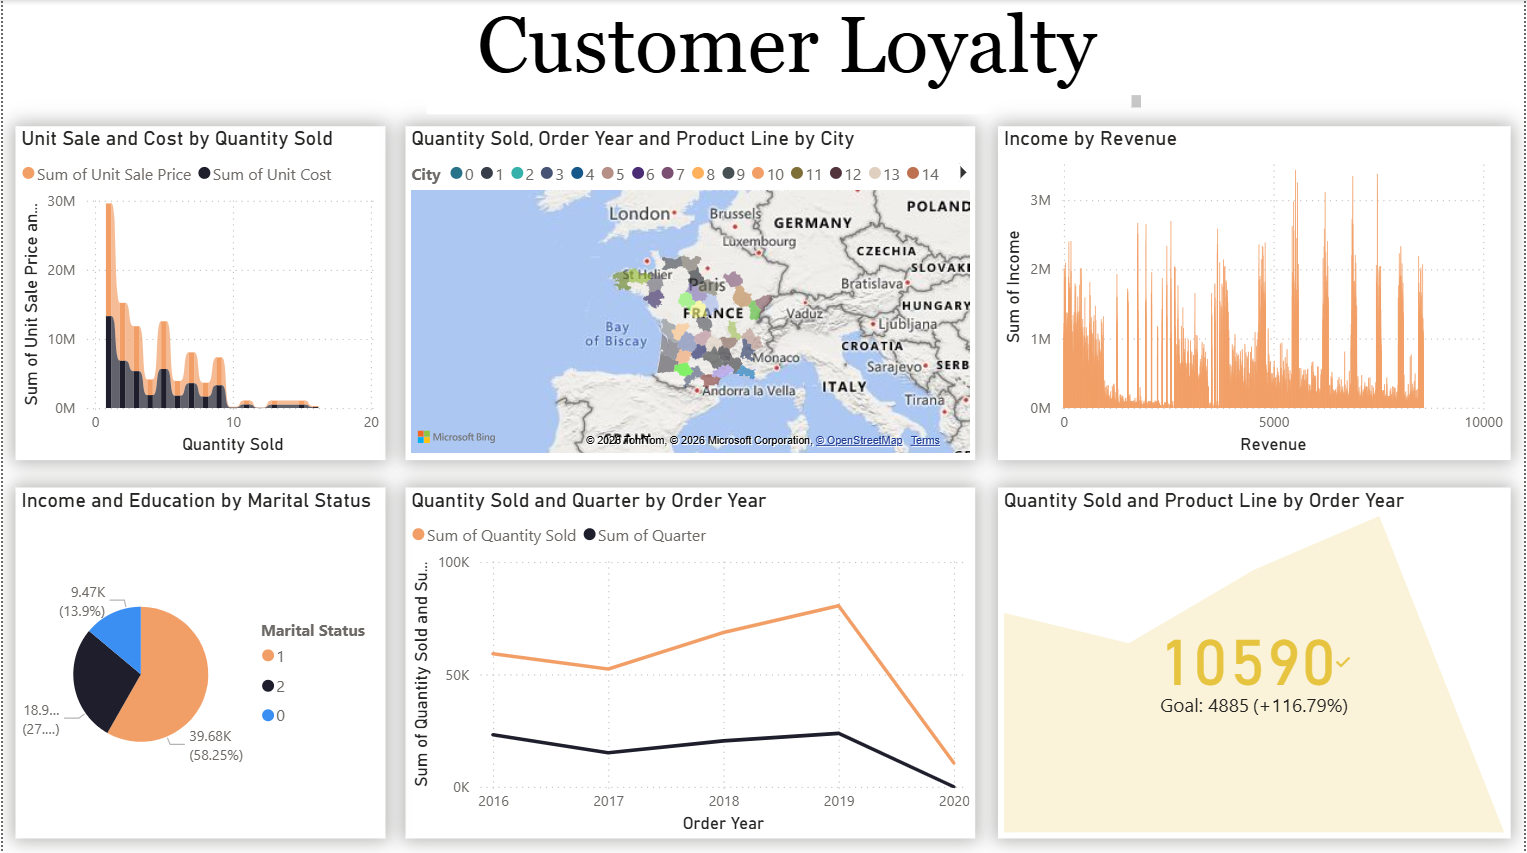

This screenshot's page, from the dashboard's own definition file:
{"tool":"powerbi","page":{"name":"Customer Loyalty","canvas":[1280,720],"ordinal":0},"visuals":[{"type":"ribbonChart","title":"Unit Sale and Cost by Quantity Sold","fields":{"Y":["Sum(Sheet1.Unit Sale Price)","Sum(Sheet1.Unit Cost)"],"Category":["Sheet1.Quantity Sold"]},"box":[10.5,106.2,311.2,280.7],"z":0},{"type":"filledMap","title":"Quantity Sold, Order Year and Product Line by City","fields":{"Category":["Sheet1.Province or State"],"Series":["Sheet1.City"]},"box":[338.6,106.2,479.4,280.7],"z":1000},{"type":"lineChart","title":"Quantity Sold and Quarter by Order Year","fields":{"Y":["Sum(Sheet1.Quantity Sold)","Sum(Sheet1.Quarter)"],"Category":["Sheet1.Order Year"]},"box":[338.6,410,479.4,295.4],"z":2000},{"type":"textbox","title":"Customer Loyalty","box":[356.4,0,605.6,95.7],"z":3000},{"type":"pieChart","title":"Income and Education  by Marital Status","fields":{"Category":["Sheet1.Marital Status"],"Y":["CountNonNull(Sheet1.Income)"]},"box":[10.5,410,311.2,295.4],"z":4000},{"type":"ribbonChart","title":"Income by Revenue","fields":{"Category":["Sheet1.Revenue"],"Y":["Sum(Sheet1.Income)"]},"box":[836.9,106.2,431.1,280.7],"z":5000},{"type":"kpi","title":"Quantity Sold and Product Line by Order Year","fields":{"TrendLine":["Sheet1.Order Year"],"Indicator":["Sum(Sheet1.Quantity Sold)"],"Goal":["Sum(Sheet1.Product Line)"]},"box":[836.9,410,431.1,295.4],"z":6000}]}

Visuals, with their boxes in screenshot pixels (x1, y1, x2, y2), scaled from the page's 1280x720 canvas onto the 1527x853 screenshot:
"Unit Sale and Cost by Quantity Sold" ribbonChart: detection(13, 126, 384, 458)
"Quantity Sold, Order Year and Product Line by City" filledMap: detection(404, 126, 976, 458)
"Quantity Sold and Quarter by Order Year" lineChart: detection(404, 486, 976, 836)
"Customer Loyalty" textbox: detection(425, 0, 1148, 113)
"Income and Education  by Marital Status" pieChart: detection(13, 486, 384, 836)
"Income by Revenue" ribbonChart: detection(998, 126, 1513, 458)
"Quantity Sold and Product Line by Order Year" kpi: detection(998, 486, 1513, 836)
